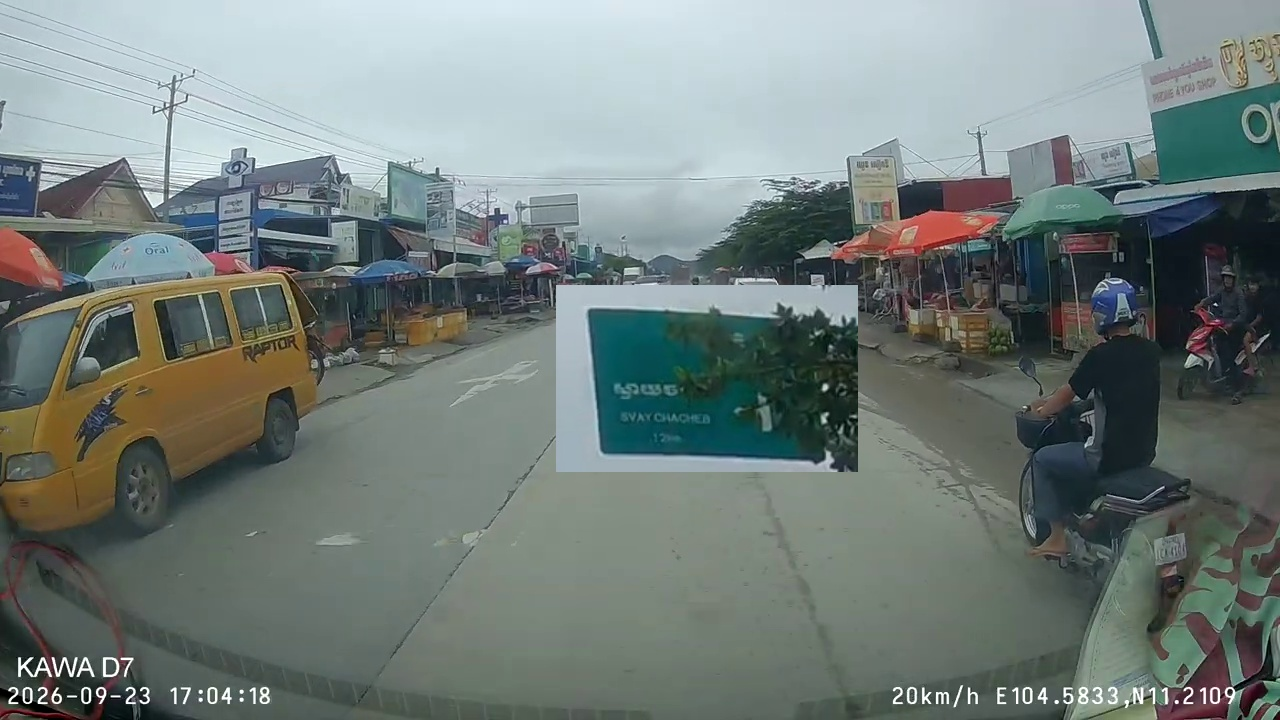direction_sign: (556, 285, 858, 472)
